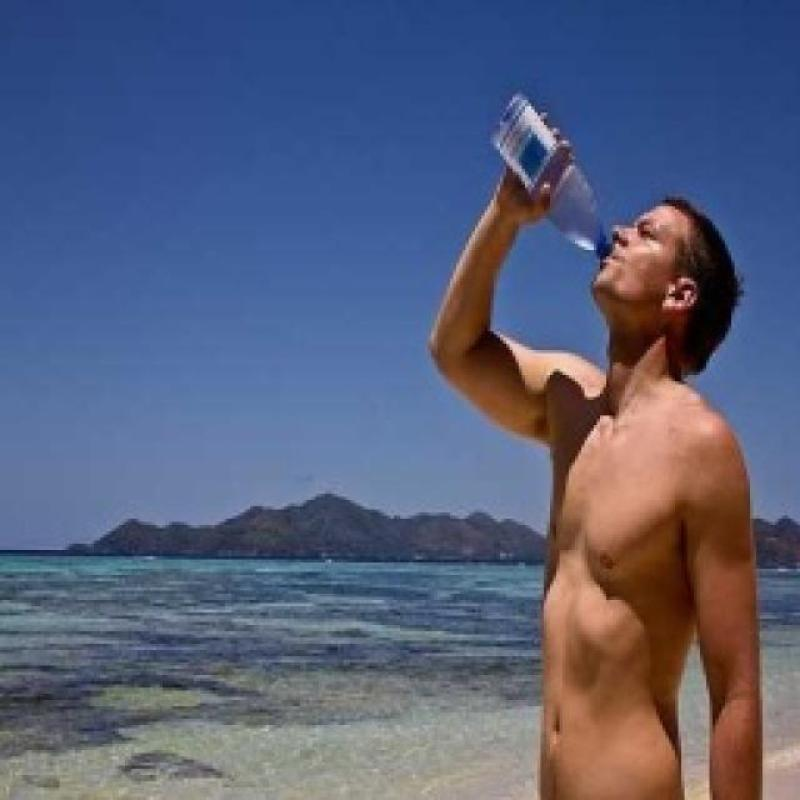botella: (492, 96, 610, 264)
